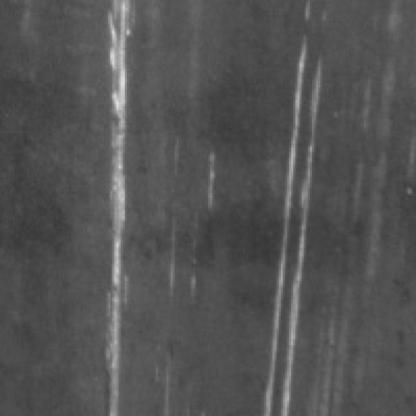scratches: (262, 0, 318, 414), (90, 2, 140, 412)
